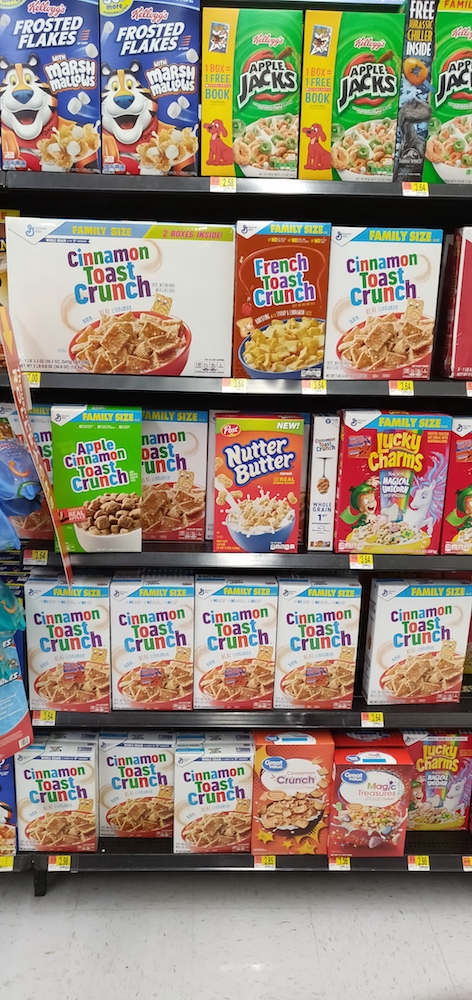Nutter Butter-565717511: (210, 410, 306, 553)
